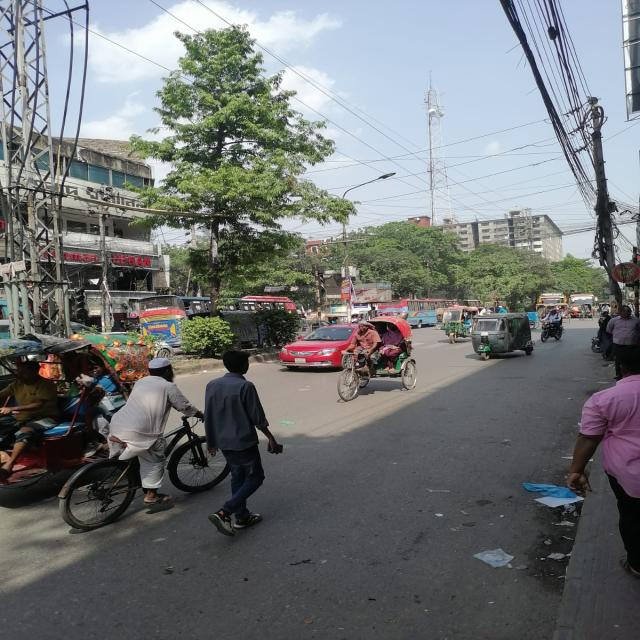person: (203, 350, 283, 537)
